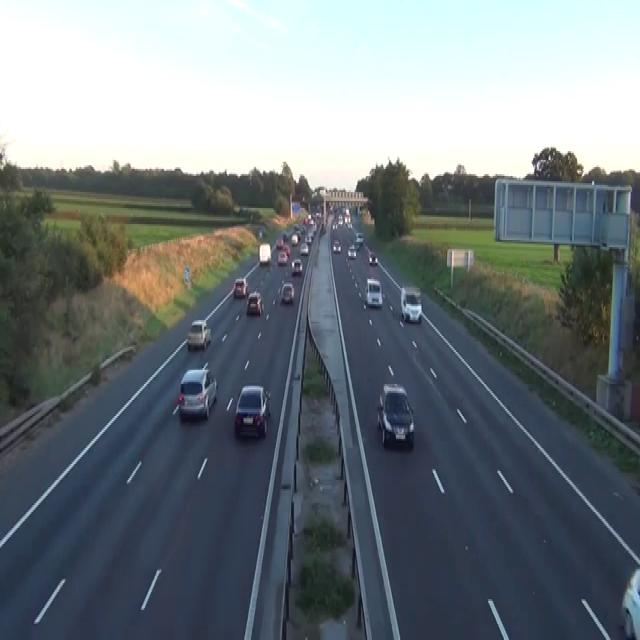Car: (377, 382, 414, 448), (177, 364, 217, 420), (234, 384, 271, 439), (620, 567, 639, 638), (400, 284, 422, 324), (186, 318, 211, 348), (365, 278, 382, 308), (246, 290, 264, 314), (233, 277, 249, 297), (281, 283, 294, 304), (291, 258, 302, 276), (277, 251, 287, 265), (368, 252, 378, 265), (355, 231, 363, 247), (332, 238, 341, 252), (347, 244, 356, 258), (300, 242, 308, 254), (290, 233, 298, 245), (282, 244, 290, 256), (276, 236, 283, 249), (354, 238, 361, 249), (305, 233, 312, 243), (282, 231, 288, 242), (337, 215, 343, 226), (331, 220, 337, 230), (293, 224, 301, 231), (321, 222, 326, 233), (347, 220, 352, 230), (258, 228, 262, 238), (316, 210, 321, 217)
Truck: (258, 242, 271, 265)
